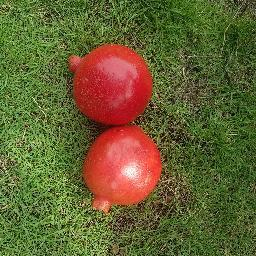Good_pomegranate: (60, 41, 159, 124), (76, 130, 167, 218)
